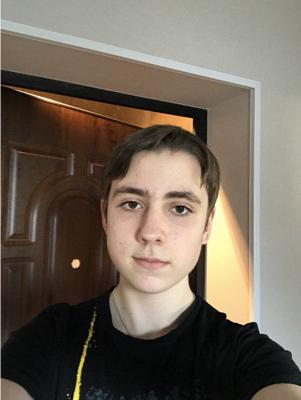without_mask: (107, 183, 208, 295)
